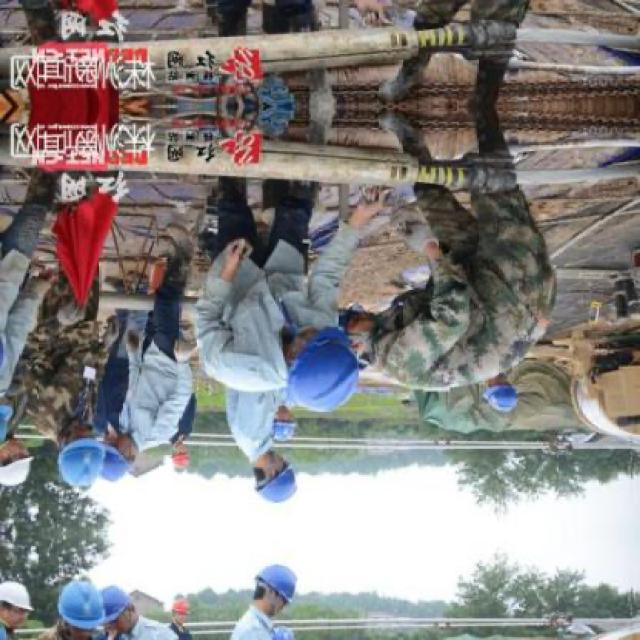con casco: (247, 343, 401, 431), (46, 415, 170, 487), (215, 446, 322, 510)
